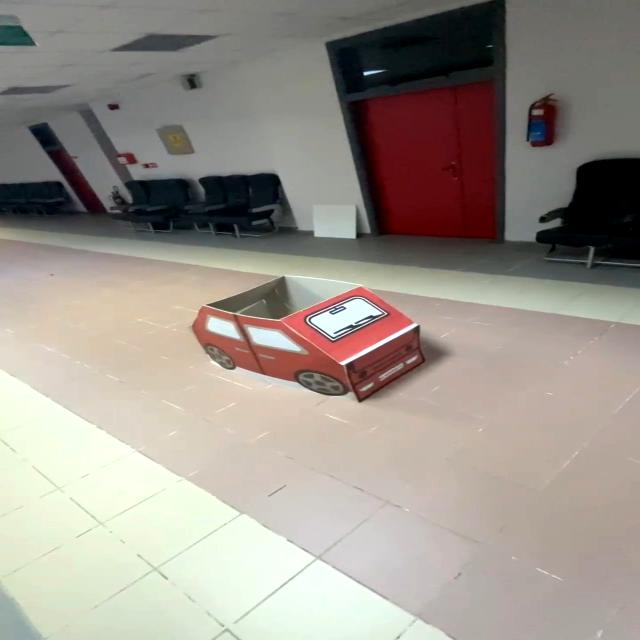red_car: (165, 258, 466, 425)
